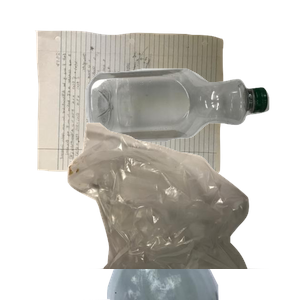glass: (83, 120, 294, 300)
paper: (32, 28, 249, 196)
plastic: (83, 66, 300, 201)
trash: (65, 120, 300, 300)
